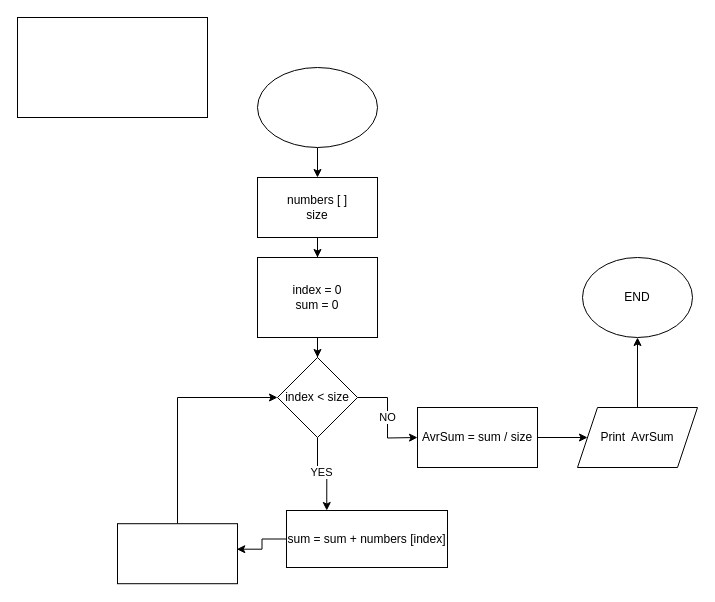
Some shapes in this 715 by 602 pixel diagram are drawn without their labels. Each missing label, with the centre of its shape:
"index = index + 1" goes at point (177, 553).
"Start" goes at point (317, 107).
"Задача №4. Найти средне арифметическое среди всех элементов массива." goes at point (112, 67).
